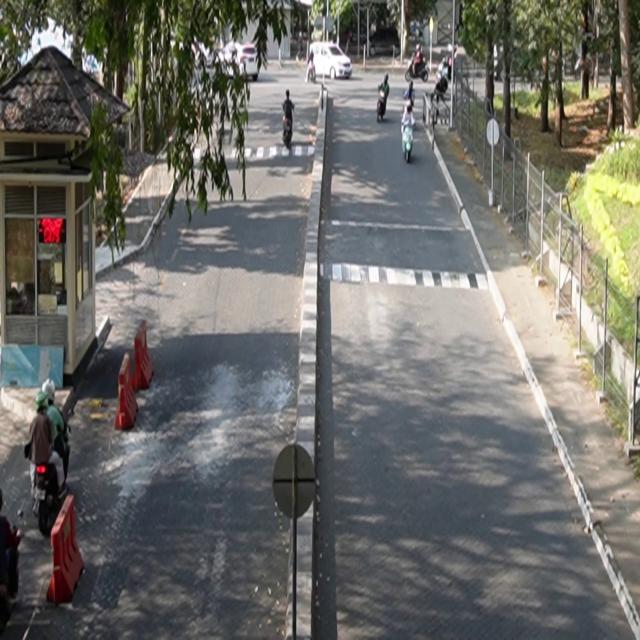car: (309, 43, 354, 81)
